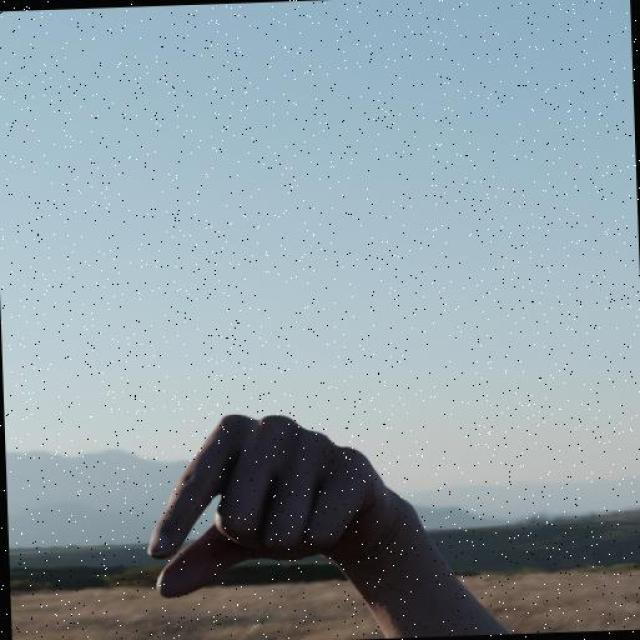Q: (139, 404, 419, 601)
